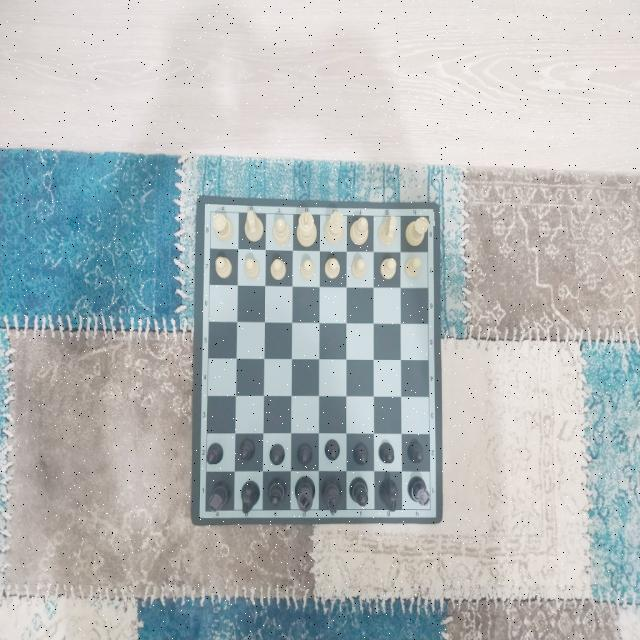corner: (421, 207, 435, 226), (198, 503, 212, 518), (425, 501, 436, 517), (206, 205, 216, 219)
